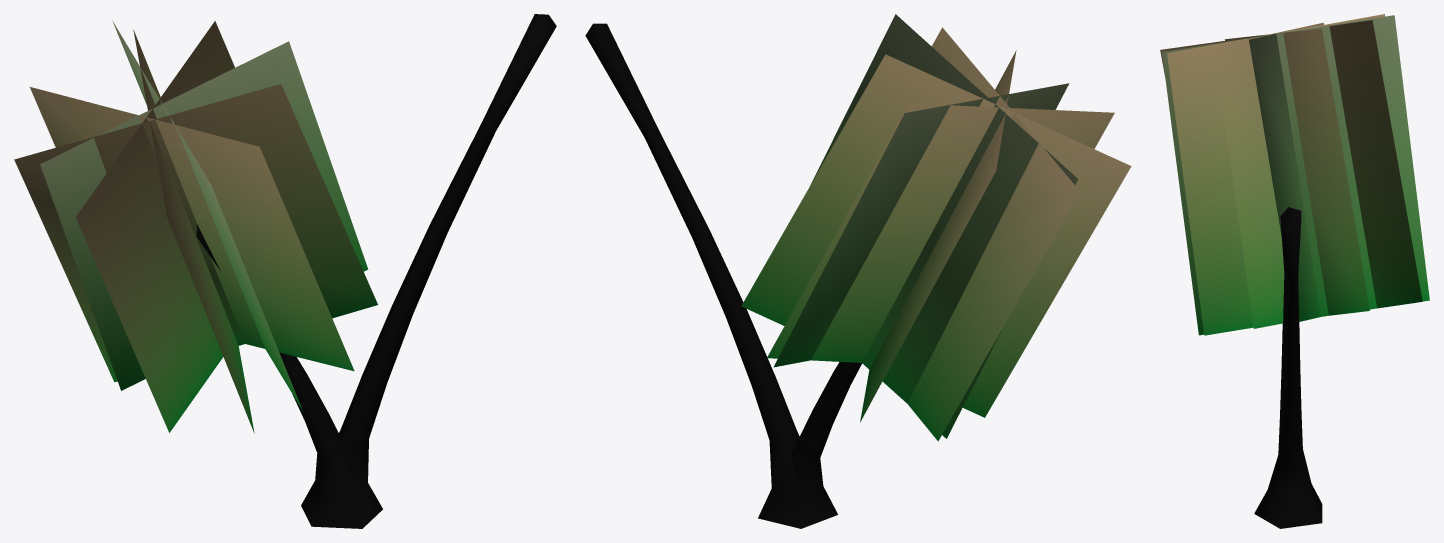
Rendered from Super_Palm_18.fbx.
3 views of the same model, side by side, from view 1: azimuth 30°, elevation 25°; view 2: azimuth 150°, elevation 25°; view 3: azimuth 270°, elevation 25° (orthographic). The views are drawn at different scales.
Parts seen in each view (by area): view 1: Tree_18; view 2: Tree_18; view 3: Tree_18.
Part boxes in pixels (x1=…): Tree_18: x1=14, y1=14, x2=556, y2=528; Tree_18: x1=585, y1=14, x2=1131, y2=528; Tree_18: x1=1160, y1=14, x2=1429, y2=528.
Size of the model in its own units: 1083 by 1008 by 558.
